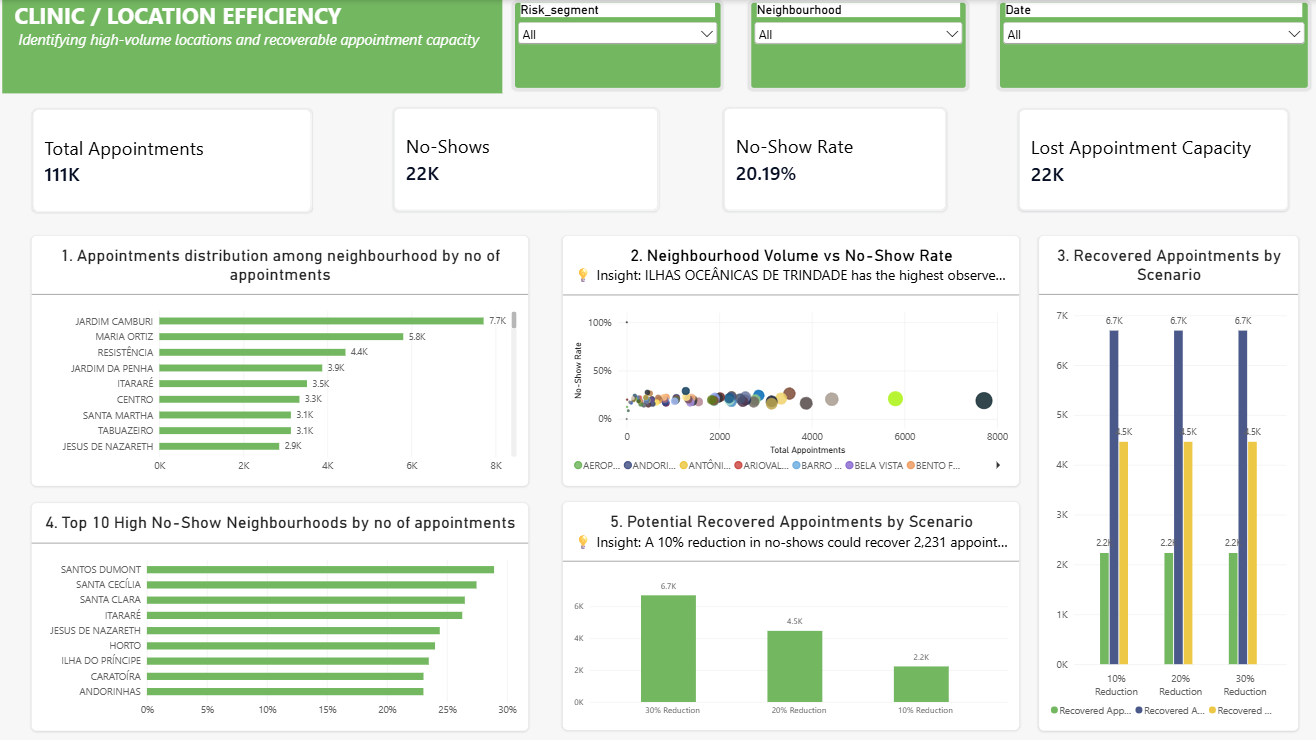

What the dashboard file says about the page in this screenshot:
{"tool":"powerbi","page":{"name":"Clinic Efficiency","canvas":[1920,1080],"ordinal":2},"visuals":[{"type":"textbox","box":[9.3,0,724.1,135.2],"z":0},{"type":"cardVisual","fields":{"Data":["FactAppointments.Total Appointments"]},"box":[52.5,157.5,405.5,150.3],"z":2000},{"type":"cardVisual","fields":{"Data":["FactAppointments.No-Shows"]},"box":[576,156,384.9,150.3],"z":3000},{"type":"cardVisual","fields":{"Data":["FactAppointments.No-Show Rate"]},"box":[1054,156,323,150],"z":4000},{"type":"cardVisual","fields":{"Data":["FactAppointments.Lost Appointment Capacity"]},"box":[1480,158,391.1,148.2],"z":5000},{"type":"clusteredBarChart","title":"1. Appointments distribution among neighbourhood by no of appointments","fields":{"Category":["DimLocation.neighbourhood"],"Y":["FactAppointments.Total Appointments"]},"box":[51.5,339.6,720.4,364.3],"z":6000},{"type":"clusteredBarChart","title":"4. Top 10 High No-Show Neighbourhoods by no of appointments","fields":{"Category":["DimLocation.neighbourhood"],"Y":["FactAppointments.No-Show Rate"]},"box":[51.5,726.6,720.4,331.4],"z":7000},{"type":"scatterChart","title":"2. Neighbourhood Volume vs No-Show Rate","fields":{"X":["FactAppointments.Total Appointments"],"Y":["FactAppointments.No-Show Rate"],"Series":["DimLocation.neighbourhood"],"Size":["FactAppointments.Total Appointments"]},"box":[819.2,339.6,662.8,364.3],"z":8000},{"type":"clusteredColumnChart","title":"3. Recovered Appointments by Scenario","fields":{"Y":["FactAppointments.Recovered Appointments - 10%","FactAppointments.Recovered Appointments - 30%","FactAppointments.Recovered Appointments - 20%"],"Category":["Recovery Scenario.Scenario"]},"box":[1508.8,339.6,376.7,718.4],"z":9000},{"type":"clusteredColumnChart","title":"5. Potential Recovered Appointments by Scenario","fields":{"Y":["FactAppointments.Potential Recovered Appointments"],"Category":["Recovery Scenario.Scenario"]},"box":[820,726,662,332],"z":10000},{"type":"slicer","fields":{"Values":["DimDate.year_month"]},"box":[1450,0,453.7,131.5],"z":11000},{"type":"slicer","fields":{"Values":["DimLocation.neighbourhood"]},"box":[1088.9,0,318.5,131.5],"z":12000},{"type":"slicer","fields":{"Values":["FactAppointments.risk_segment"]},"box":[748.1,0,305.6,131.5],"z":13000}]}

Visuals, with their boxes in screenshot pixels (x1, y1, x2, y2), scaled from the page's 1920x1080 canvas onto the 1316x740 screenshot:
textbox: locate(6, 0, 503, 93)
cardVisual - FactAppointments.Total Appointments: locate(36, 108, 314, 211)
cardVisual - FactAppointments.No-Shows: locate(395, 107, 659, 210)
cardVisual - FactAppointments.No-Show Rate: locate(722, 107, 944, 210)
cardVisual - FactAppointments.Lost Appointment Capacity: locate(1014, 108, 1282, 210)
"1. Appointments distribution among neighbourhood by no of appointments" clusteredBarChart: locate(35, 233, 529, 482)
"4. Top 10 High No-Show Neighbourhoods by no of appointments" clusteredBarChart: locate(35, 498, 529, 725)
"2. Neighbourhood Volume vs No-Show Rate" scatterChart: locate(561, 233, 1016, 482)
"3. Recovered Appointments by Scenario" clusteredColumnChart: locate(1034, 233, 1292, 725)
"5. Potential Recovered Appointments by Scenario" clusteredColumnChart: locate(562, 497, 1016, 725)
slicer - DimDate.year_month: locate(994, 0, 1305, 90)
slicer - DimLocation.neighbourhood: locate(746, 0, 965, 90)
slicer - FactAppointments.risk_segment: locate(513, 0, 722, 90)
